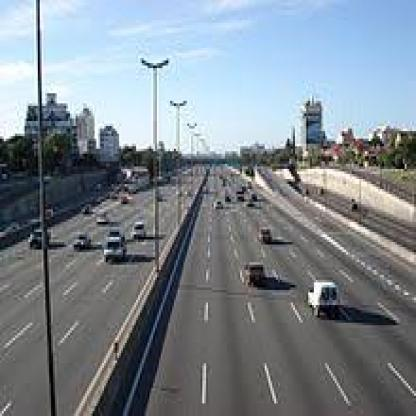car: (292, 270, 342, 326), (233, 255, 274, 290), (97, 226, 130, 269), (128, 212, 152, 249), (252, 218, 281, 248), (31, 227, 53, 262), (71, 226, 92, 259), (206, 192, 226, 222), (94, 211, 117, 231), (232, 186, 245, 208)
